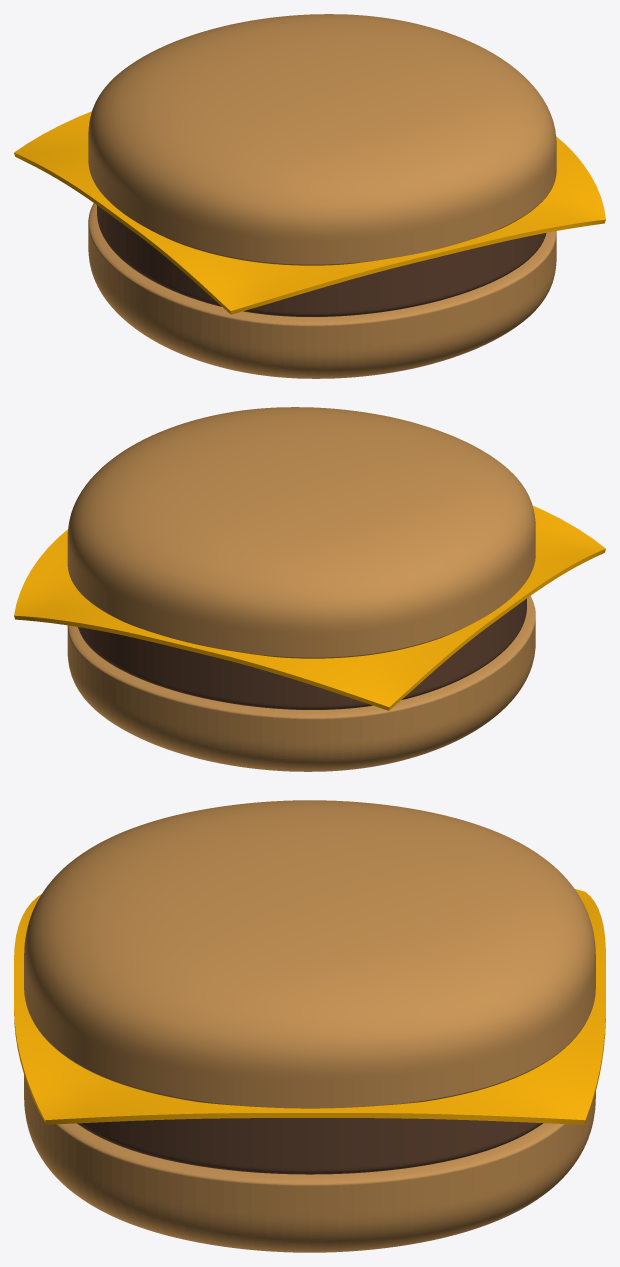
The model's file is hamburger.glb.
The picture shows the model from 3 angles, top to bottom: view 1: azimuth 30°, elevation 25°; view 2: azimuth 150°, elevation 25°; view 3: azimuth 270°, elevation 25°; orthographic projection. The views are drawn at different scales.
Parts seen in each view (by area): view 1: Cube.001, Cube, Plane, Cube.002; view 2: Cube.001, Cube, Plane, Cube.002; view 3: Cube.001, Cube, Plane, Cube.002.
Boxes of the visible parts, bbox=[...] form: Cube.001: bbox=[88, 14, 556, 265]; Cube: bbox=[88, 203, 556, 378]; Plane: bbox=[14, 111, 605, 314]; Cube.002: bbox=[97, 205, 546, 316]; Cube.001: bbox=[67, 407, 535, 658]; Cube: bbox=[67, 596, 535, 771]; Plane: bbox=[14, 506, 605, 710]; Cube.002: bbox=[78, 598, 526, 709]; Cube.001: bbox=[24, 800, 595, 1108]; Cube: bbox=[24, 1075, 595, 1252]; Plane: bbox=[14, 889, 605, 1124]; Cube.002: bbox=[77, 1118, 542, 1174].
Bounding box in the file's own units: 9.49 × 5.32 × 9.49.
